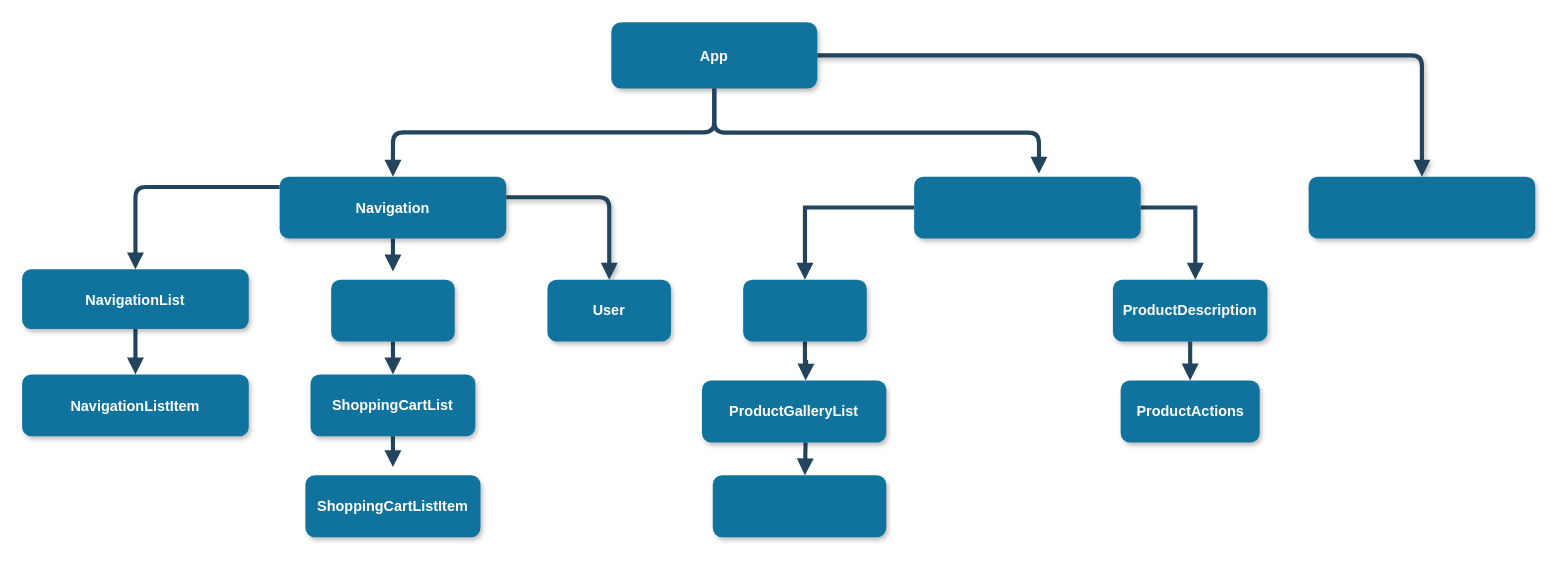
Some shapes in this 1558 by 561 pixel diagram are drawn without their labels. The shapes that lost their labels are listed below. From the top down, each one's centre as x and y in pixels, then its label:
At [1027,208]: "ProductOverview".
At [1422,208]: "ModalGallery".
At [393,311]: "ShoppingCart".
At [805,311]: "ProductGallery".
At [800,507]: "ProductGalleryListItem".
